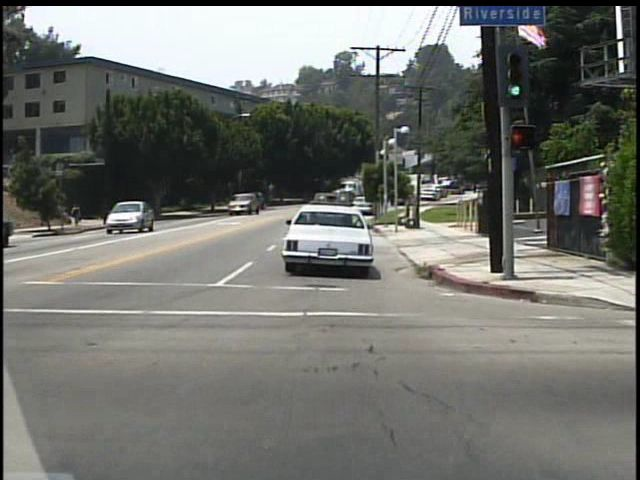person: (71, 203, 85, 228)
